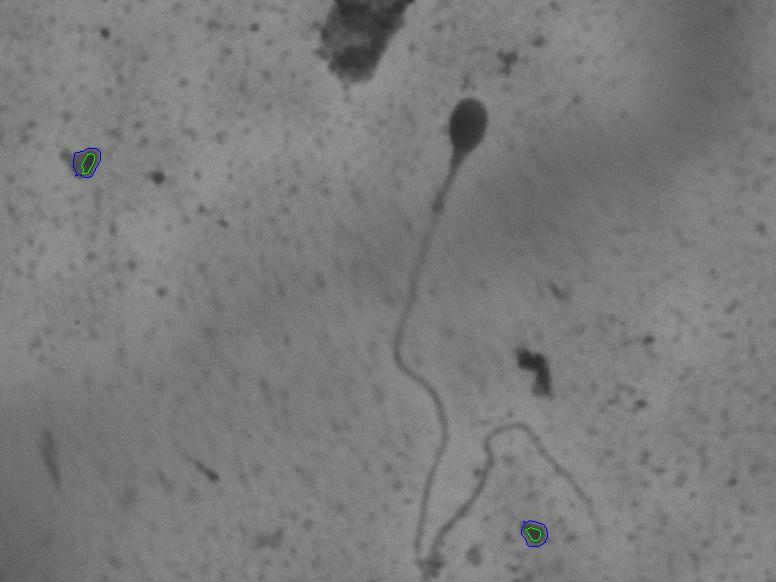Normal: (346, 74, 626, 579)
